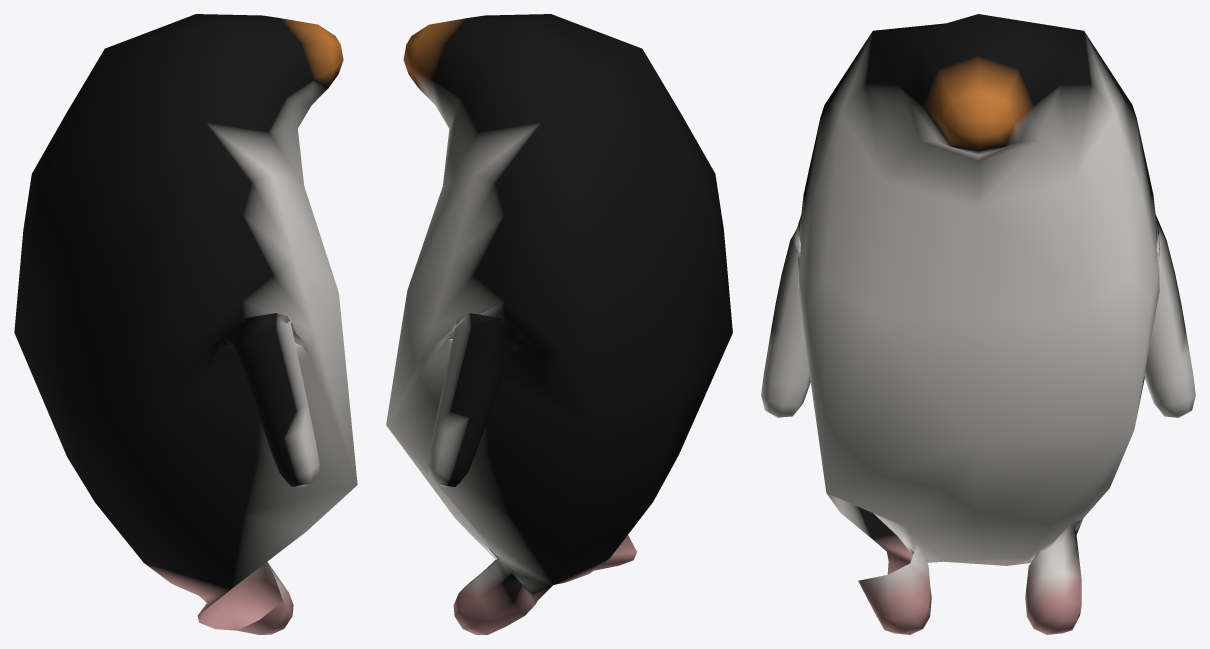
The model's file is penguin.glb.
3 views of the same model, side by side, from view 1: azimuth 30°, elevation 25°; view 2: azimuth 150°, elevation 25°; view 3: azimuth 270°, elevation 25° (orthographic). The views are drawn at different scales.
Visible parts, largest first — view 1: penguin; view 2: penguin; view 3: penguin.
Part boxes in pixels (x1,y1,x2,y2): penguin: (14, 14, 357, 634); penguin: (386, 14, 732, 634); penguin: (761, 14, 1195, 634).
Bounding box in the file's own units: 0.2776 × 0.5638 × 0.3625.
